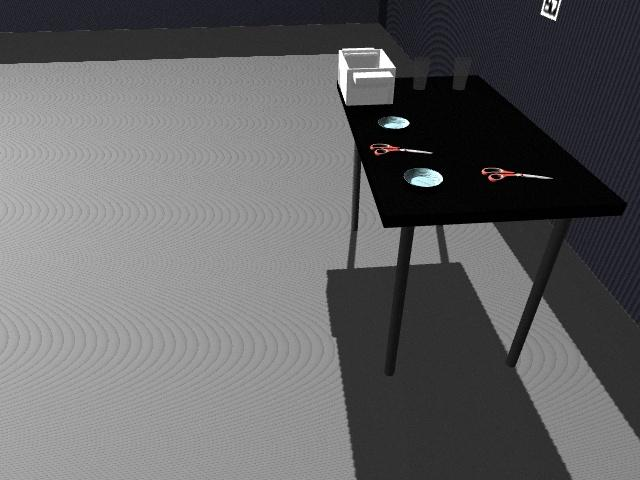cup: (452, 56, 473, 91), (412, 58, 429, 91)
plate: (403, 167, 445, 188), (377, 116, 411, 130)
scissors: (481, 166, 552, 182), (370, 142, 431, 155)
